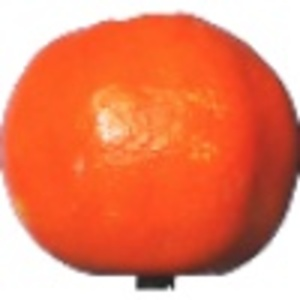tangerina: (1, 9, 300, 288)
